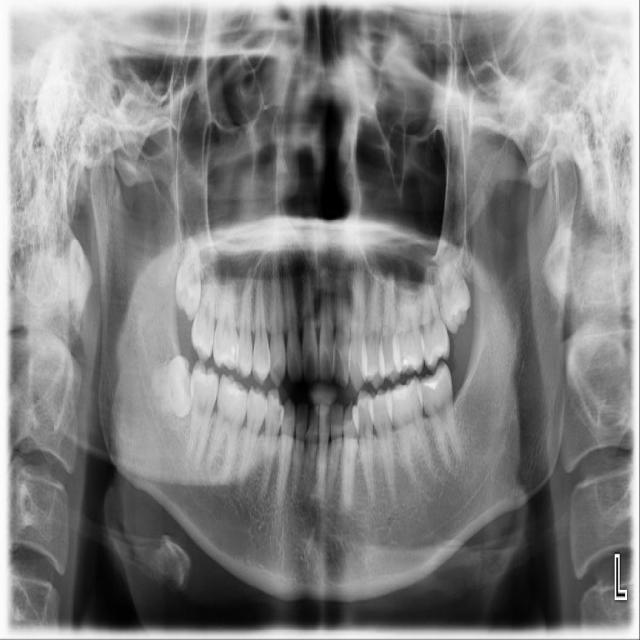Filling: (420, 371, 448, 390), (401, 353, 421, 370)
impacted tooth: (435, 246, 470, 332), (148, 356, 193, 416), (175, 233, 201, 318)
